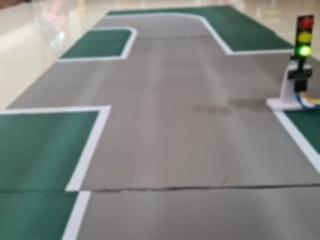green: (291, 6, 317, 64)
